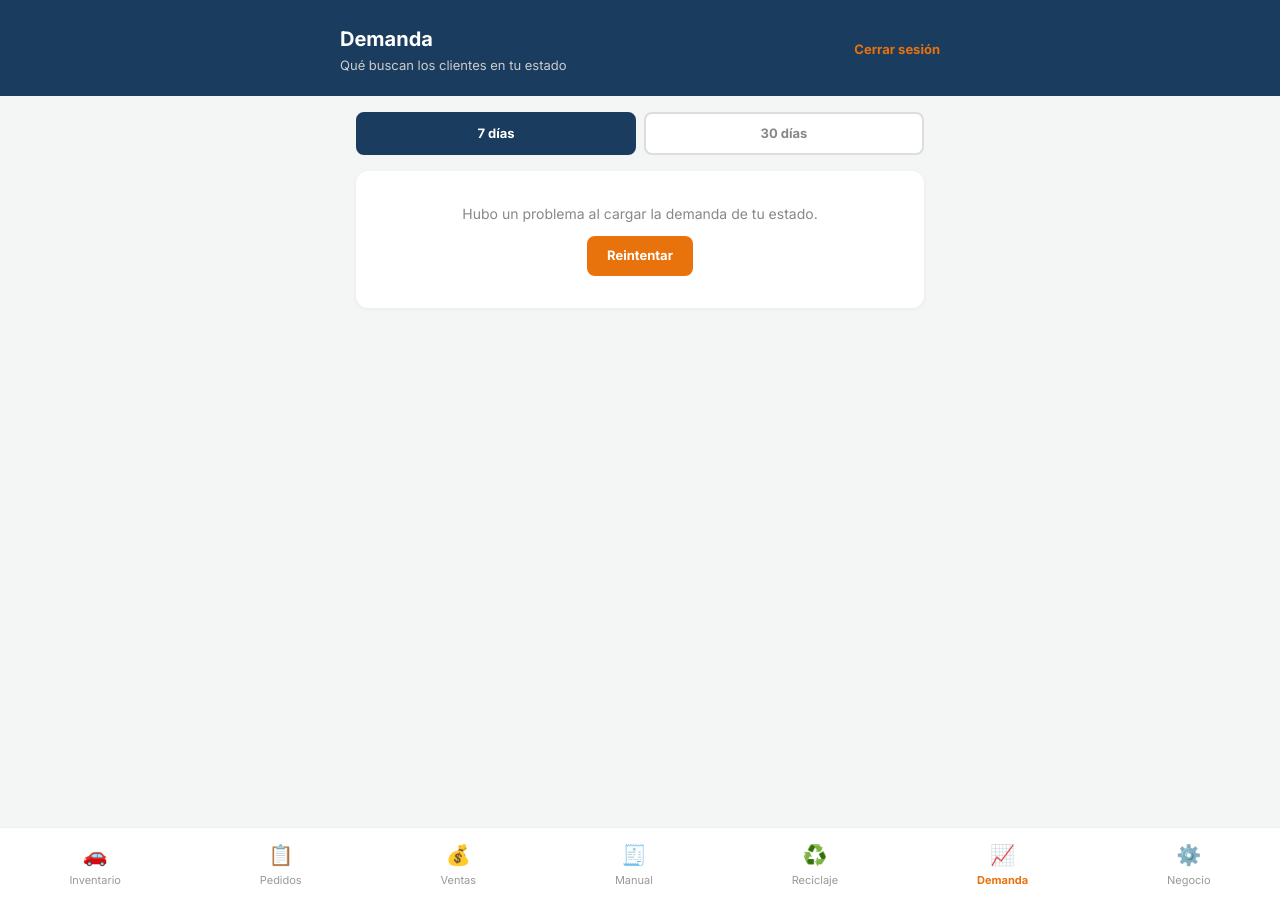
Scenario: DemandaPanel — estados de la interfaz › Reintentar vuelve a consultar Firestore
Click the button "Reintentar": (640, 256) [587, 236, 693, 276]
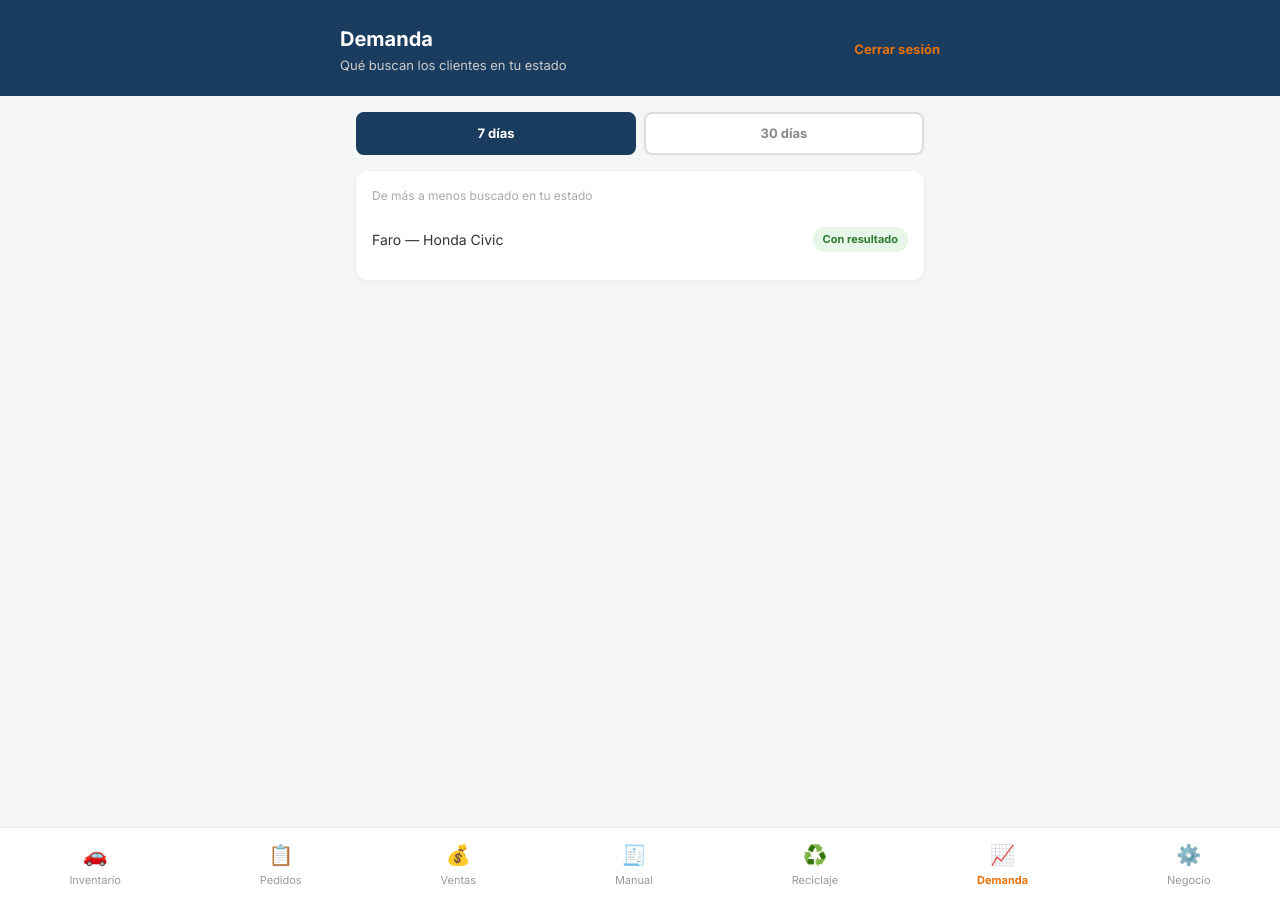
Now the text "Faro — Honda Civic" is shown, box [372, 231, 503, 248]
